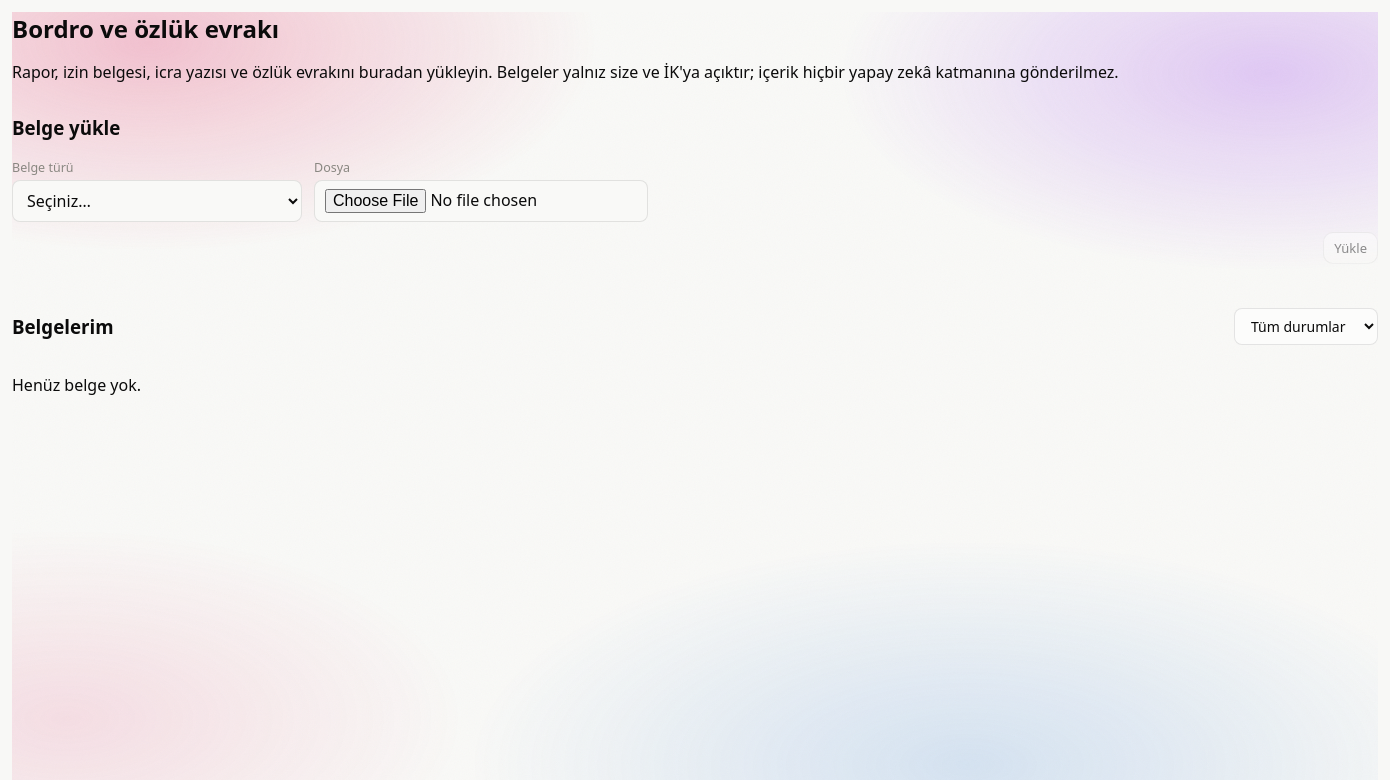
Test: yükleme formu türe göre şekilleniyor › var olan izin kaydı seçilince tarihler otomatik dolar ve kilitlenir
Select "İstirahat raporu (iş göremezlik)" in the dropdown labelled "Belge türü" at (157, 201), box [12,180,302,222]
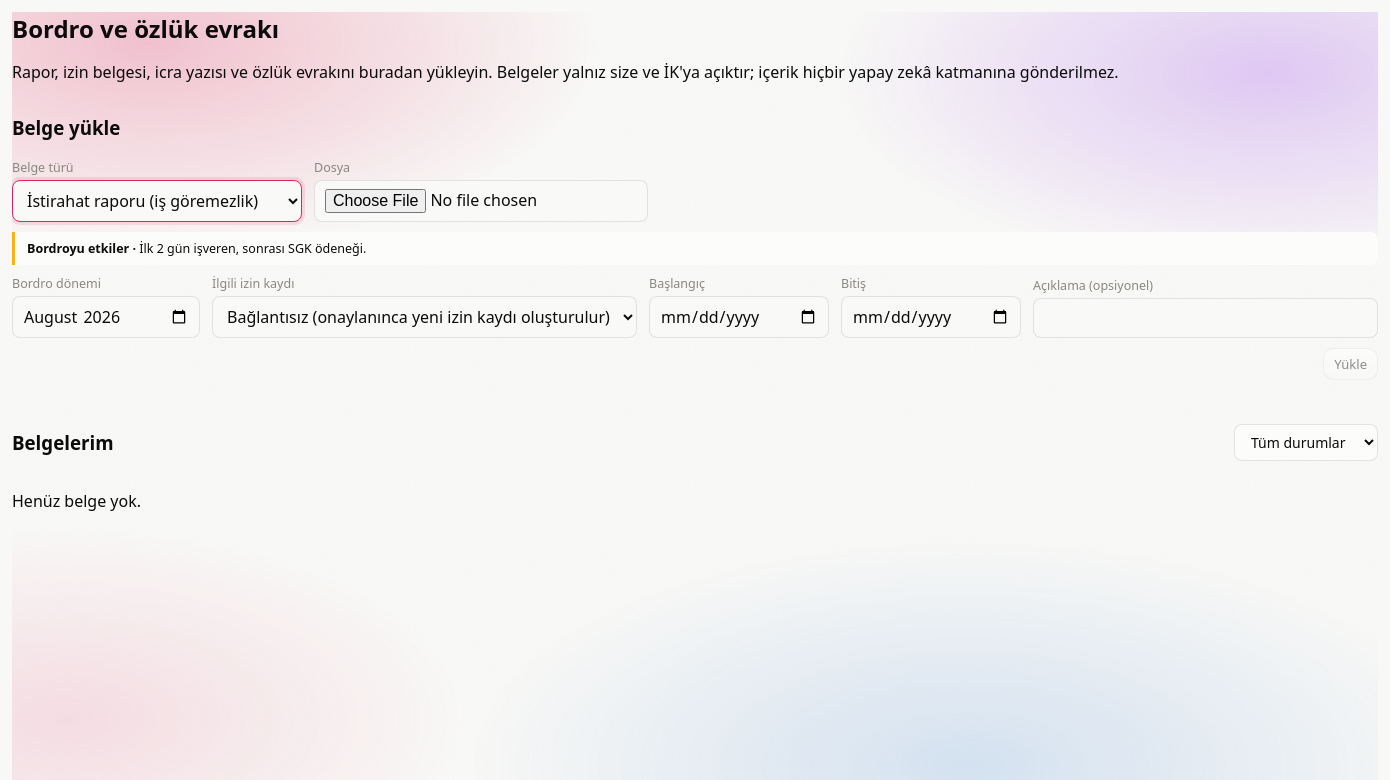
Select "2026-08-10 → 2026-08-12 · Rapor · İncelemede" in the dropdown labelled "İlgili izin kaydı" at (424, 317), box [212,296,637,338]
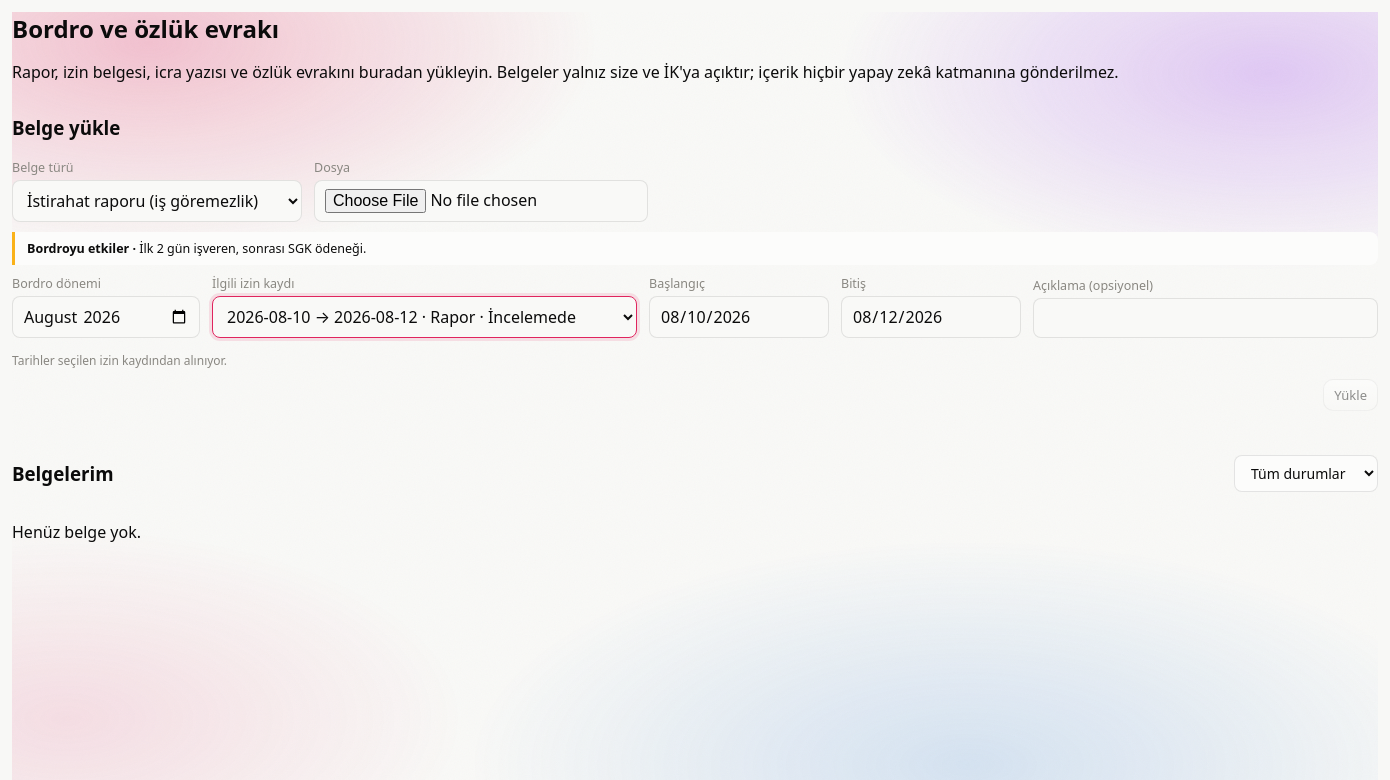
Expected: the date field labelled "Başlangıç" holds "2026-08-10", [649,296,829,338]
Expected: the date field labelled "Bitiş" holds "2026-08-12", [841,296,1021,338]
Expected: the date field labelled "Başlangıç" is disabled, [649,296,829,338]
